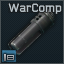AR-15 Surefire WarComp 5.56x45 Flash hider: (0, 0, 64, 64)
